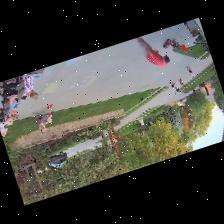person: (136, 37, 169, 65), (38, 103, 53, 132), (24, 74, 39, 98), (0, 117, 13, 136), (187, 64, 194, 77), (170, 81, 176, 92)
